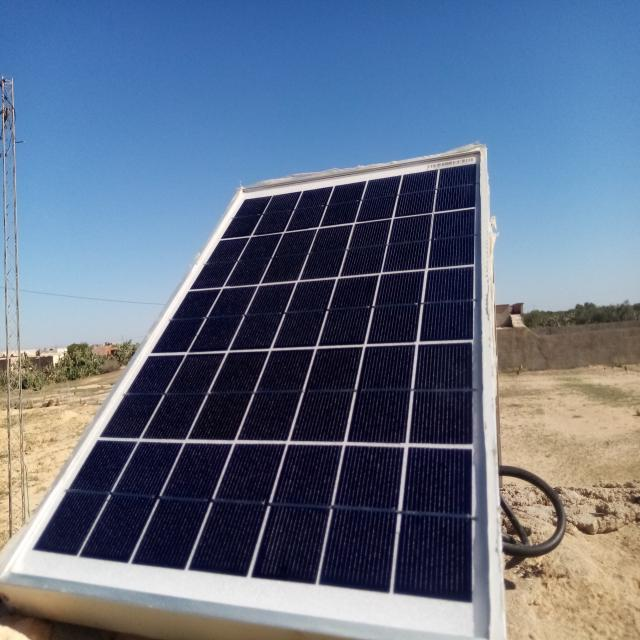Normal Solar Panel: (0, 148, 498, 640)
